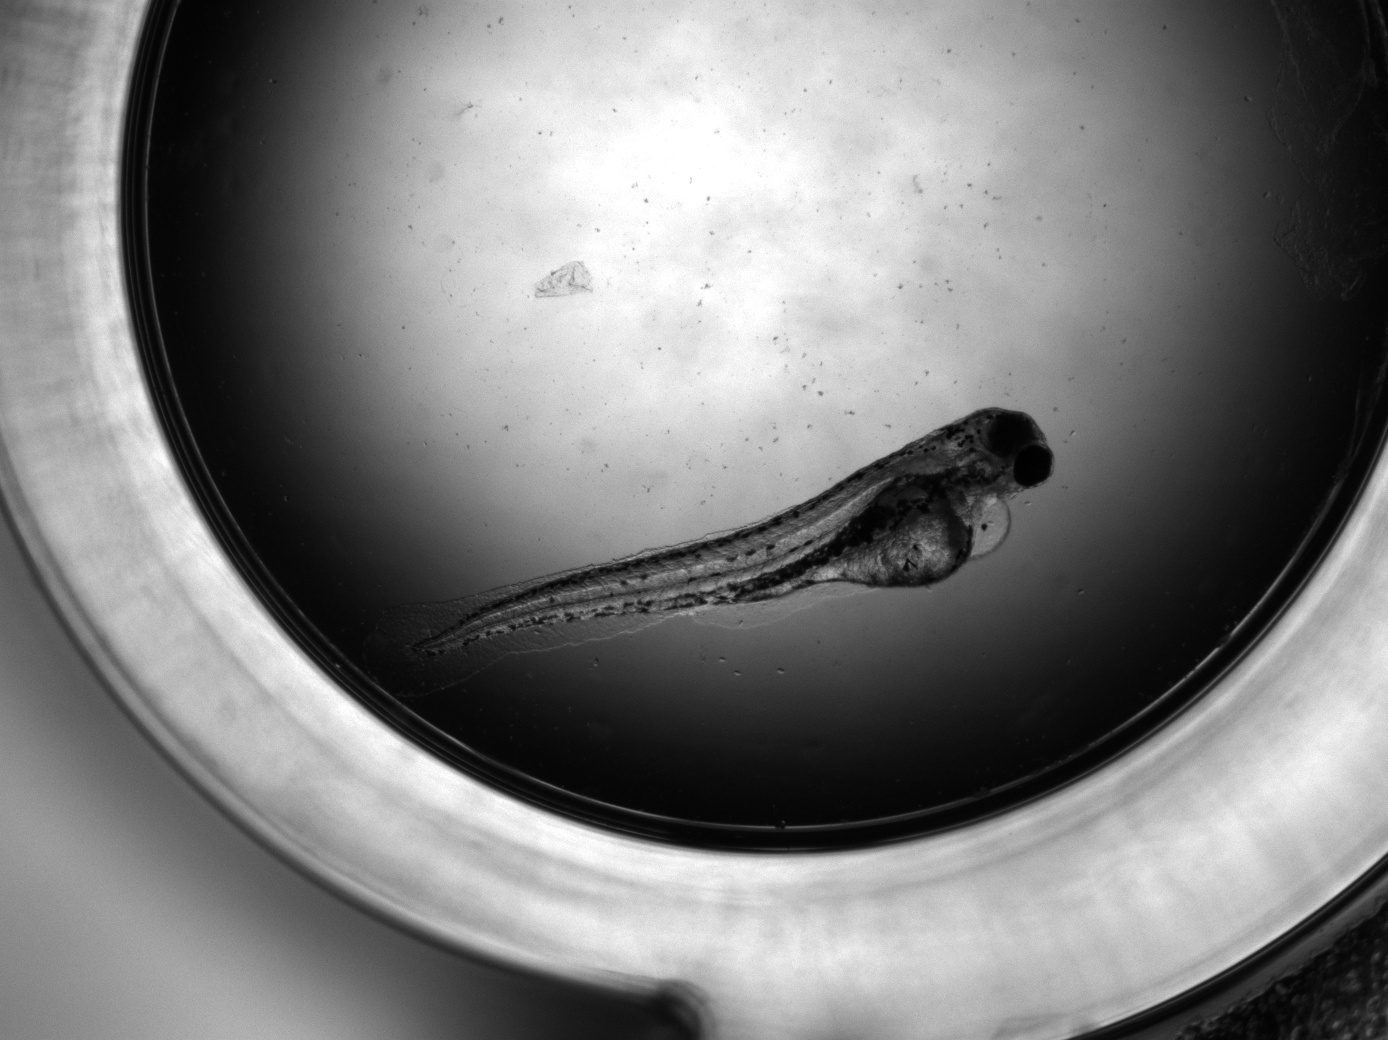debris: (402, 407, 1056, 661)
eye: (1013, 444, 1055, 487), (990, 414, 1031, 452)
yolksac: (808, 474, 1010, 587)
